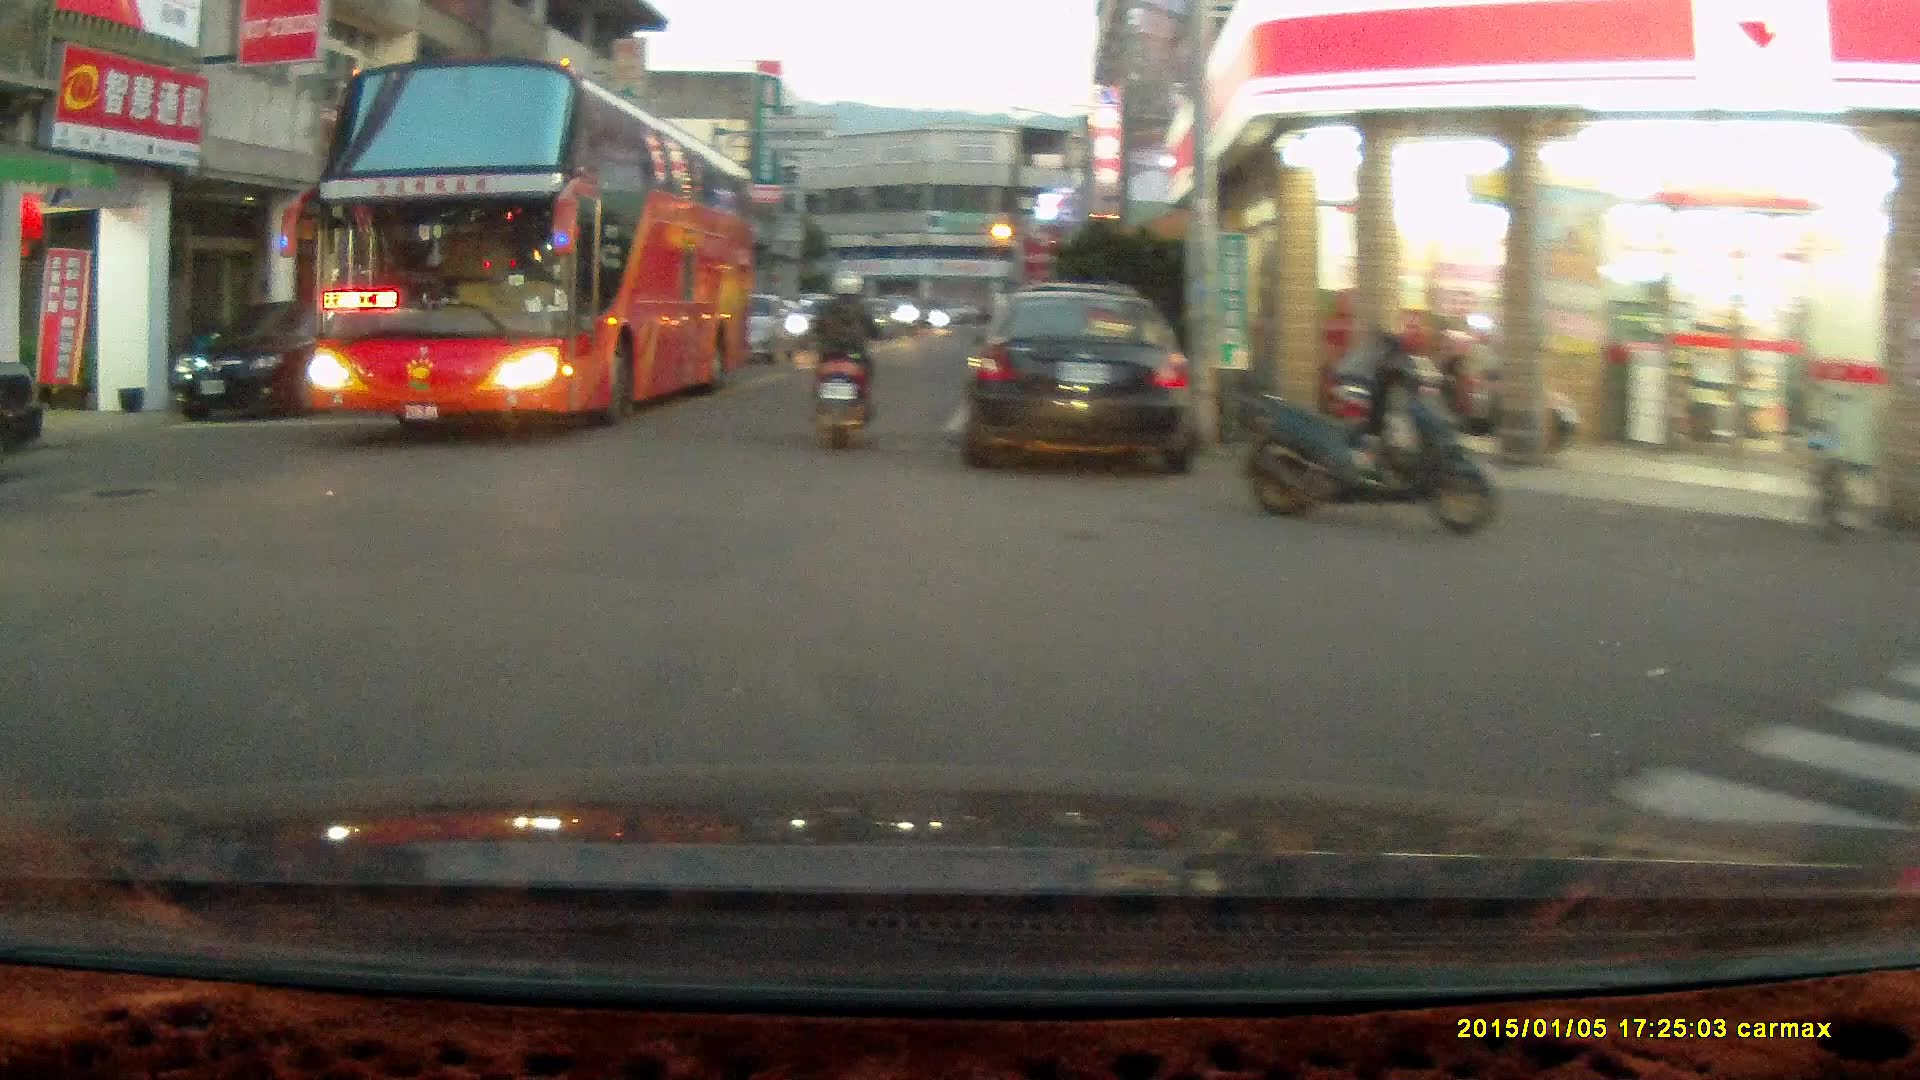rider: (800, 265, 882, 451)
vehicle: (303, 61, 765, 435), (959, 285, 1206, 473), (175, 304, 376, 418)
